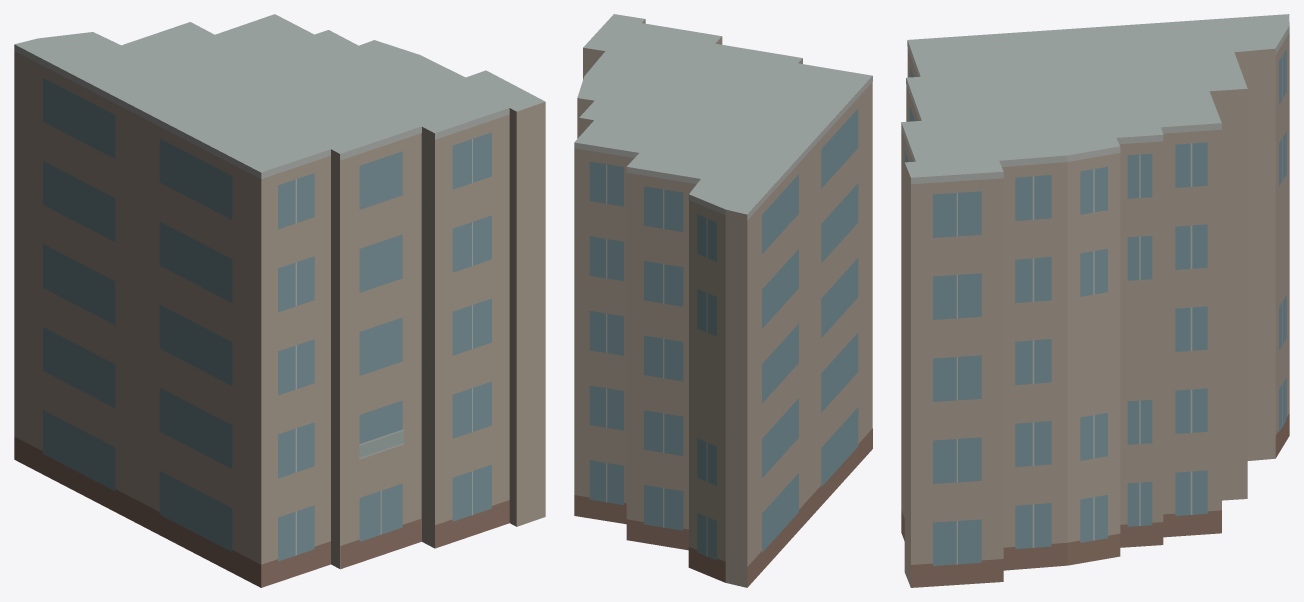
File: survey-upis-32684527.glb
The picture shows the model from 3 angles, left to right: view 1: azimuth 30°, elevation 25°; view 2: azimuth 150°, elevation 25°; view 3: azimuth 270°, elevation 25°; orthographic projection. The views are drawn at different scales.
Visible parts, largest first — view 1: survey-upis-32684527.tmp; view 2: survey-upis-32684527.tmp; view 3: survey-upis-32684527.tmp.
Boxes of the visible parts, box(x1,y1,x2,y2) form: survey-upis-32684527.tmp: box(14, 14, 545, 587); survey-upis-32684527.tmp: box(574, 14, 872, 587); survey-upis-32684527.tmp: box(901, 14, 1289, 587).
Bounding box in the file's own units: 13.16 × 15.35 × 13.18.
